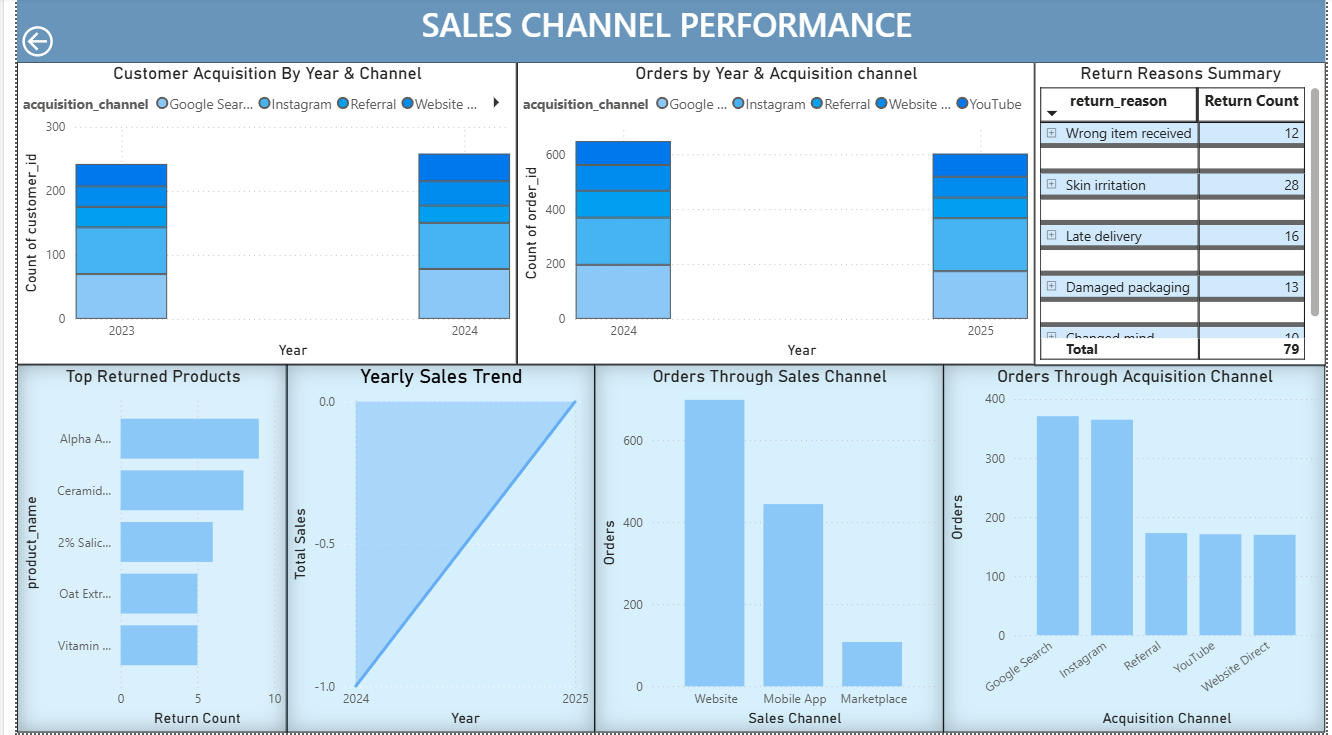

The dashboard page shown, as its layout file describes it:
{"tool":"powerbi","page":{"name":"Page 5","canvas":[1280,720],"ordinal":4},"visuals":[{"type":"lineStackedColumnComboChart","title":"Orders by Year & Acquisition channel","fields":{"Category":["Orders.order_date.Variation.Date Hierarchy.Year","Orders.order_date.Variation.Date Hierarchy.Quarter"],"Y":["CountNonNull(Orders.order_id)"],"Series":["Customers.acquisition_channel"]},"box":[488.8,63.8,506.2,296.2],"z":0},{"type":"lineStackedColumnComboChart","title":"Customer Acquisition By Year & Channel","fields":{"Category":["Customers.signup_date.Variation.Date Hierarchy.Year","Customers.signup_date.Variation.Date Hierarchy.Quarter"],"Y":["CountNonNull(Customers.customer_id)"],"Series":["Customers.acquisition_channel"]},"box":[0,63.8,488.8,296.2],"z":1000},{"type":"areaChart","title":"Yearly  Sales Trend ","fields":{"Category":["Orders.order_date.Variation.Date Hierarchy.Year"],"Y":["Orders.% growth"]},"box":[262.5,360,302.5,360],"z":2000},{"type":"pivotTable","title":"Return Reasons Summary","fields":{"Rows":["Returns.return_reason","Returns.refund_status"],"Values":["Returns.Return Count"]},"box":[995,63.8,285,297.5],"z":3000},{"type":"barChart","title":"Top Returned Products ","fields":{"Category":["Products.product_name"],"Y":["Returns.Return Count"]},"box":[0,360,265,360],"z":4000},{"type":"columnChart","title":"Orders Through Sales Channel ","fields":{"Category":["Orders.sales_channel"],"Y":["CountNonNull(Orders.order_id)"]},"box":[565,360,341.2,360],"z":5000},{"type":"columnChart","title":"Orders Through Acquisition  Channel ","fields":{"Y":["CountNonNull(Orders.order_id)"],"Category":["Customers.acquisition_channel"]},"box":[906.2,360,373.8,360],"z":6000},{"type":"textbox","box":[0,0,1280,63.8],"z":7000},{"type":"actionButton","box":[0,23.2,100.3,40.4],"z":8000}]}

Visuals, with their boxes in screenshot pixels (x1, y1, x2, y2), scaled from the page's 1280x720 canvas onto the 1332x735 screenshot:
"Orders by Year & Acquisition channel" lineStackedColumnComboChart: 509 65 1035 368
"Customer Acquisition By Year & Channel" lineStackedColumnComboChart: 0 65 509 368
"Yearly  Sales Trend " areaChart: 273 368 588 734
"Return Reasons Summary" pivotTable: 1035 65 1331 369
"Top Returned Products " barChart: 0 368 276 734
"Orders Through Sales Channel " columnChart: 588 368 943 734
"Orders Through Acquisition  Channel " columnChart: 943 368 1331 734
textbox: 0 0 1331 65
actionButton: 0 24 104 65
